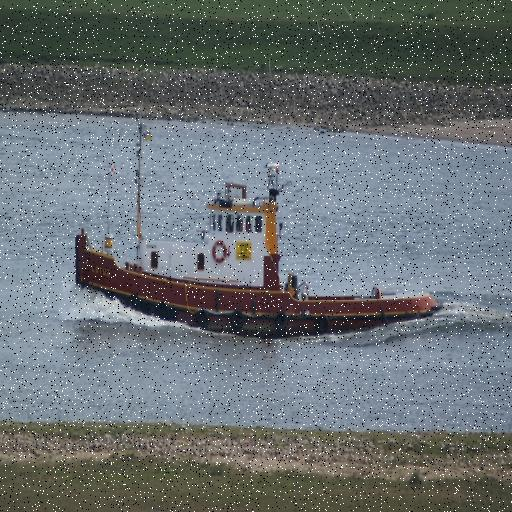tugboat: (63, 159, 451, 360)
